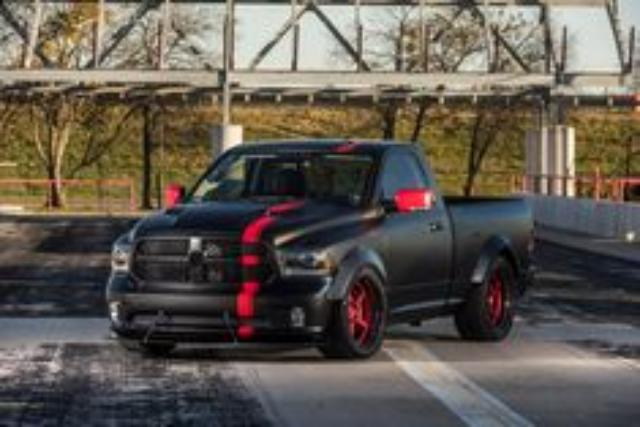pickup-truck: (105, 139, 538, 362)
